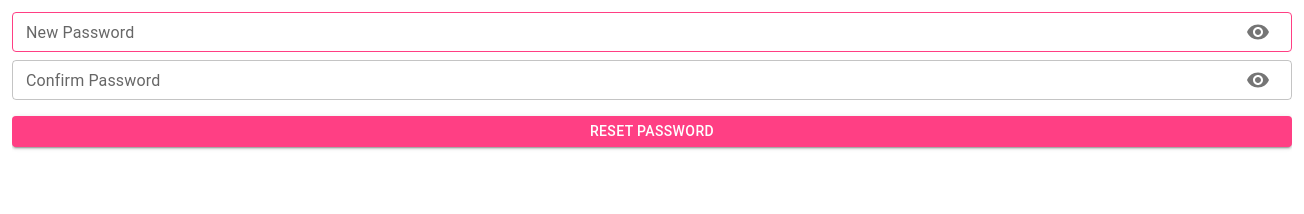
ResetPasswordForm › shows validation errors when submitting empty form
Click the button "Reset Password". click: (652, 131)
box: [12, 116, 1292, 146]
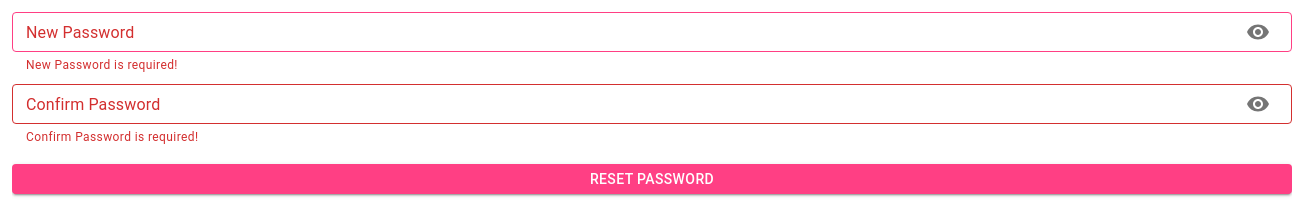
Now the text "New Password is required!" is shown, box [26, 58, 178, 72]
Now the text "Confirm Password is required!" is shown, box [26, 130, 198, 144]
